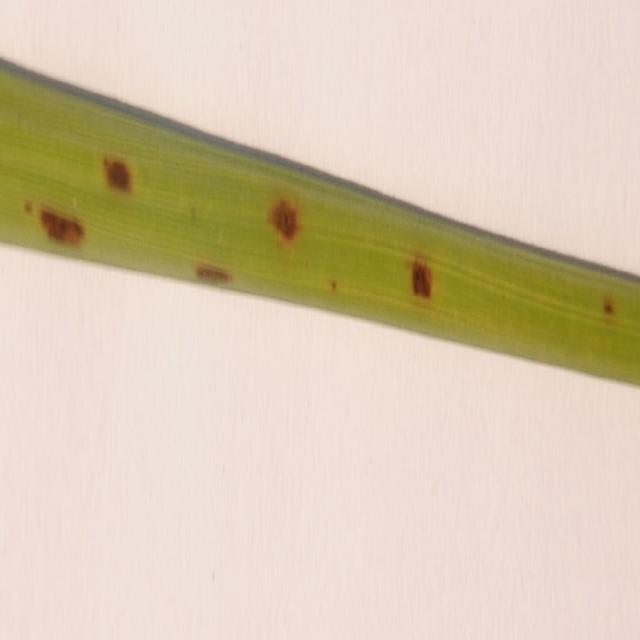brown spot: (35, 189, 90, 254), (266, 174, 304, 262), (405, 242, 439, 318), (100, 141, 137, 208), (192, 249, 239, 284), (602, 282, 618, 326), (327, 264, 340, 304)
